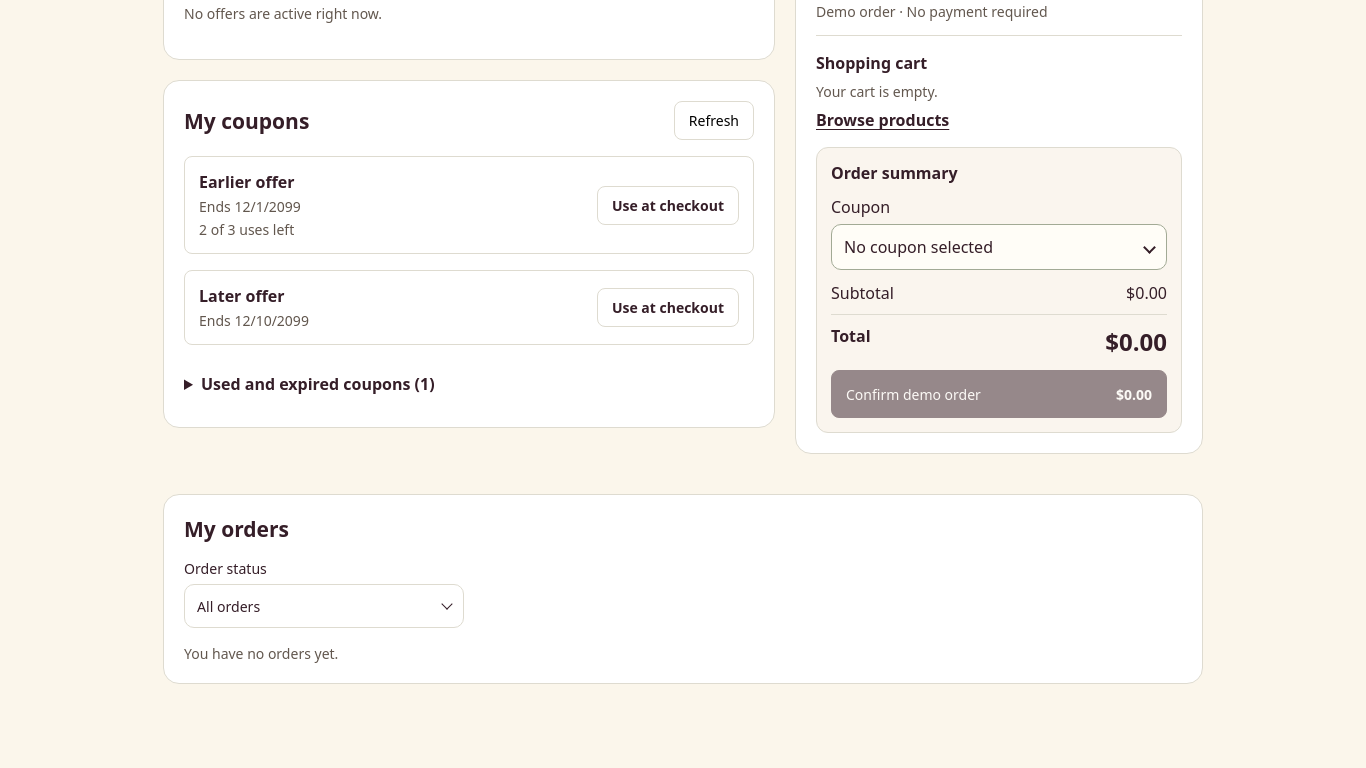
Test: sorts available coupons by expiry and keeps inactive coupons out of checkout
(page scrolled)
Expected: the text "2 of 3 uses left" is shown, [199,220,301,239]
Expected: the option "Past offer" is not shown
Click the heading "Used and expired coupons (1)" at point(318, 384), box [201,373,435,395]
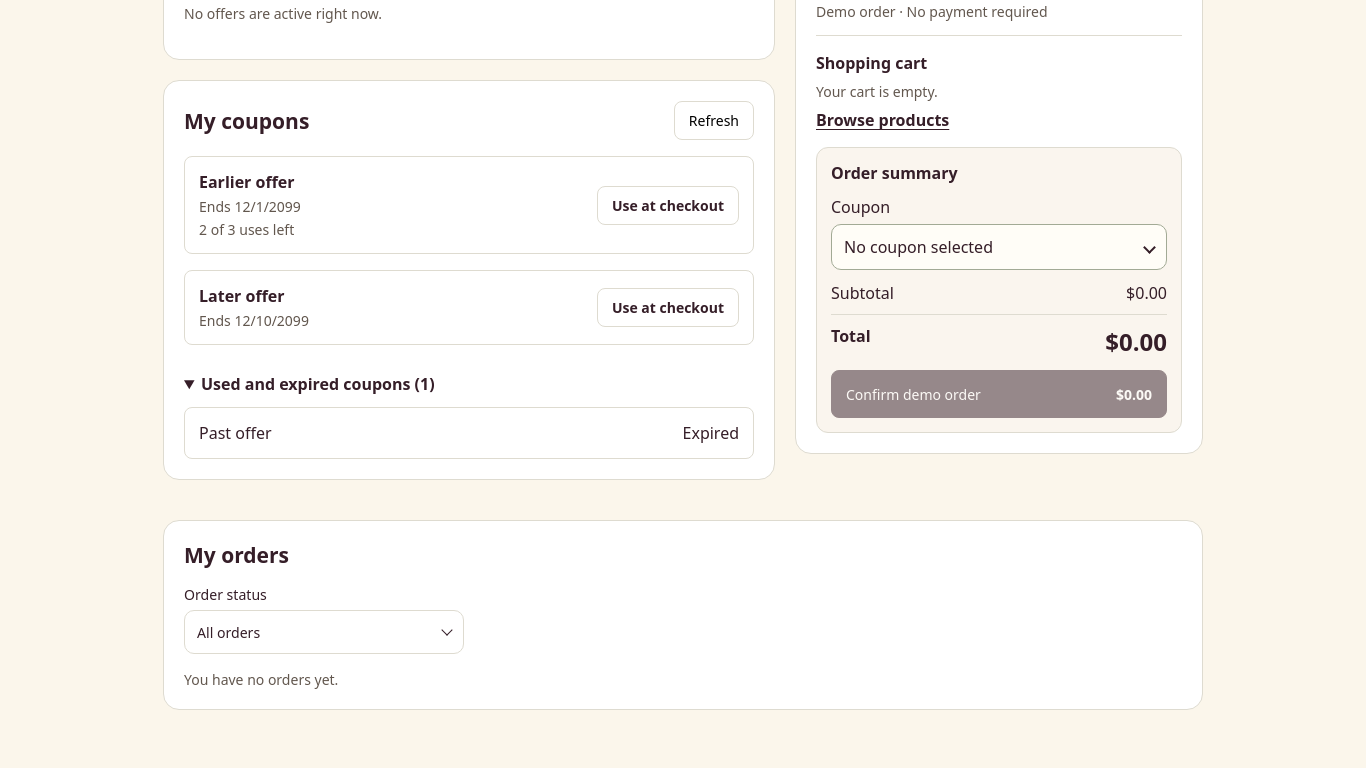
Expected: the text "Past offer" is shown, [199,422,272,444]
